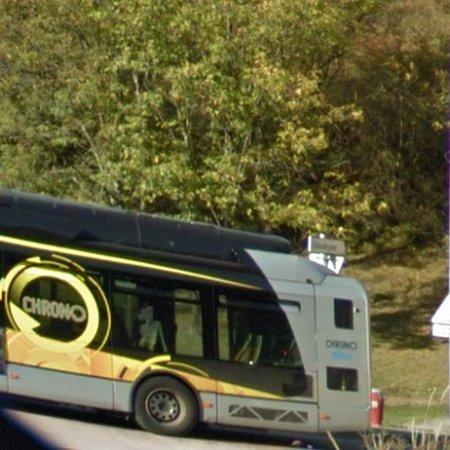buses: (0, 190, 374, 436)
